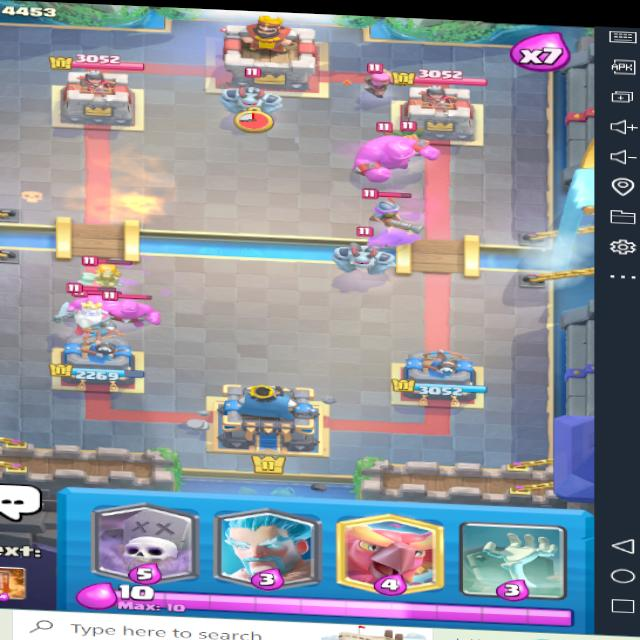Dartgoblin: (394, 121, 437, 155)
Egolem: (345, 131, 443, 184), (108, 289, 170, 330), (52, 285, 114, 314)
Firecracker: (338, 56, 402, 93)
Megaminion: (215, 66, 282, 129), (329, 232, 407, 282)
Musketeer: (357, 186, 440, 237)
Royalghost: (68, 298, 114, 336)
Valk: (69, 247, 130, 293)
